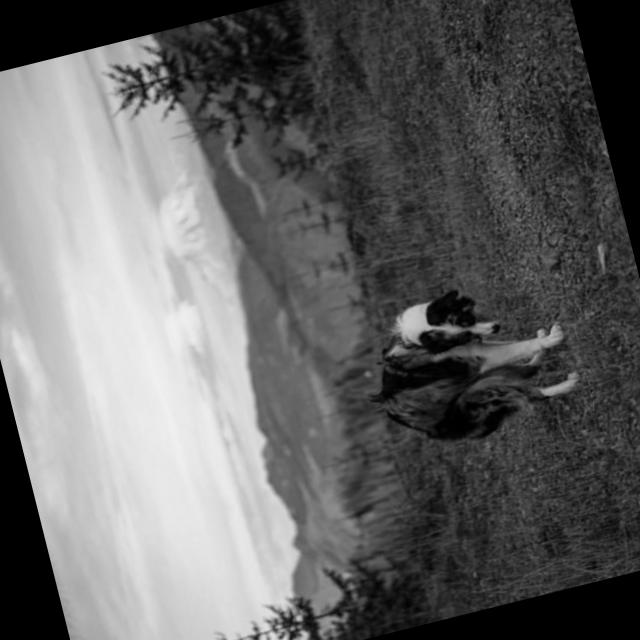squatting: (352, 260, 597, 468)
